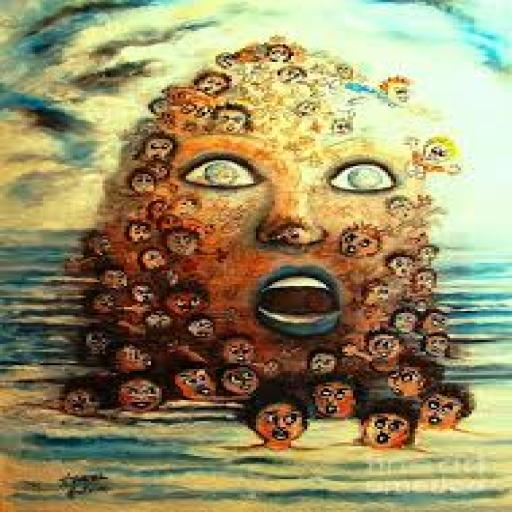person: (100, 36, 452, 430), (396, 128, 471, 193), (239, 402, 323, 460), (346, 399, 418, 457), (383, 187, 444, 246), (385, 354, 452, 404), (54, 368, 114, 422), (160, 360, 224, 408), (154, 277, 220, 320), (335, 219, 391, 269), (370, 72, 428, 120), (420, 386, 477, 434), (108, 339, 165, 380), (310, 381, 363, 425), (110, 378, 170, 416), (377, 302, 430, 344), (362, 329, 418, 368), (296, 346, 360, 379), (64, 220, 113, 262), (220, 335, 274, 373), (418, 328, 466, 370), (215, 366, 267, 402), (181, 310, 228, 347), (144, 128, 181, 175), (388, 244, 428, 287), (119, 168, 163, 206), (135, 242, 177, 280), (168, 223, 206, 265), (79, 292, 131, 322), (116, 214, 154, 254), (85, 328, 122, 367), (212, 103, 253, 138), (364, 279, 410, 310), (96, 264, 135, 294), (410, 267, 443, 301), (420, 308, 464, 333), (268, 40, 296, 71), (140, 101, 173, 127), (191, 74, 226, 98)
